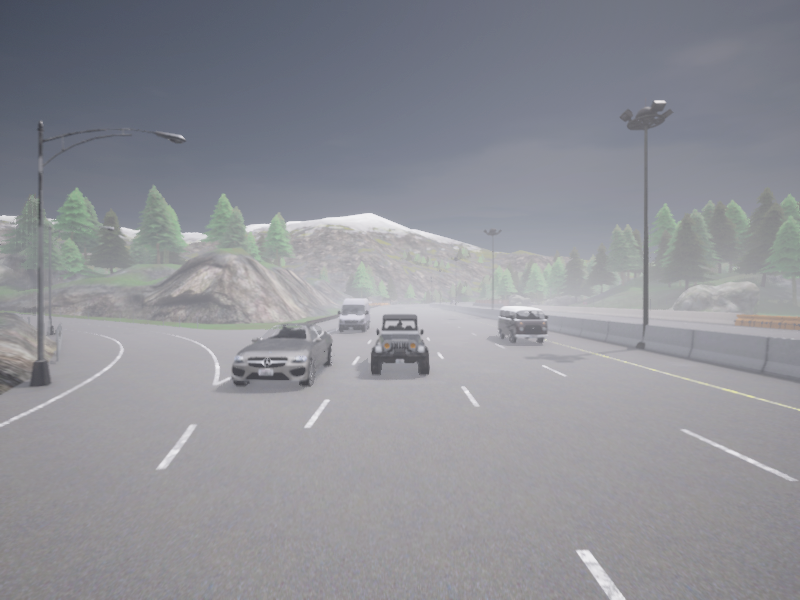vehicle: (231, 323, 333, 386), (370, 314, 429, 374), (497, 306, 547, 343), (337, 298, 369, 332), (451, 300, 456, 304)
